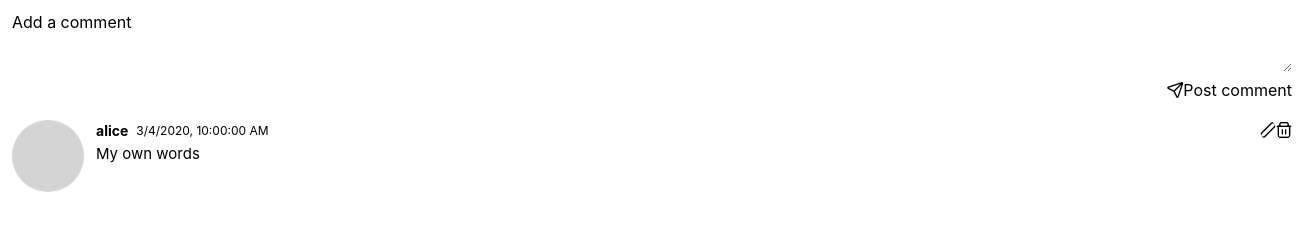
Test case: DocumentViewComments — the edit affordance (#285) › opens an editable draft seeded with the current content, and closes it again on cancel
The width and height of the screenshot is (1304, 249).
Click the button with class "comment-edit".
click(1268, 130)  # box [1260, 120, 1276, 140]
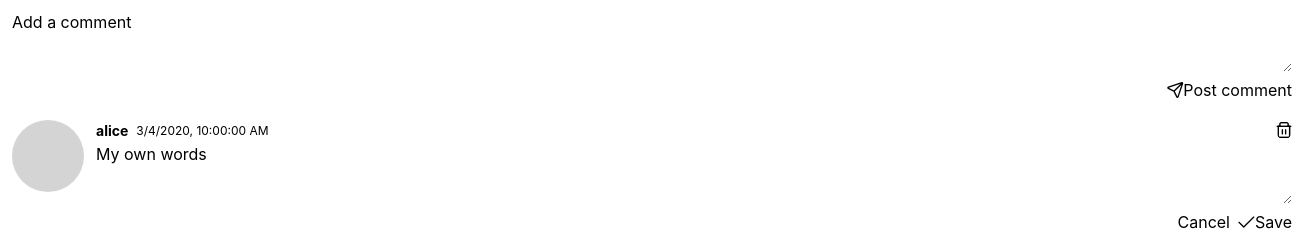
expect the text box with class "comment-edit-input" holds "My own words": met, box [96, 144, 1292, 204]
Click the button with class "comment-edit-cancel".
click(1204, 222)  # box [1178, 212, 1230, 232]
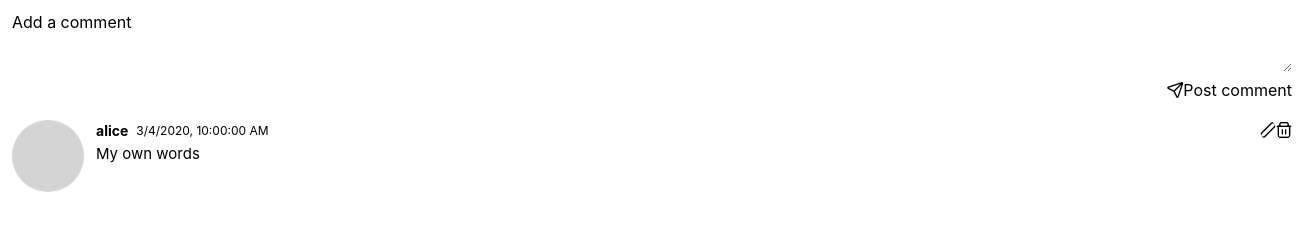
expect the text with class "comment-content" reads "My own words": met, box [96, 144, 200, 163]
